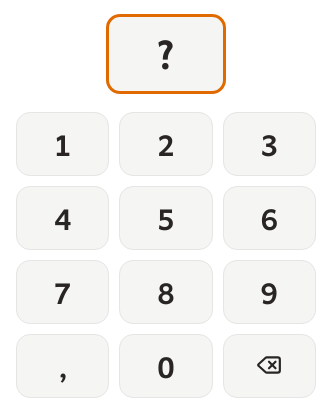
Test: <DecimalInput> : saisie d'un nombre decimal › compose 3,25 et remonte le code 325 (centiemes)
The width and height of the screenshot is (333, 415).
Click the button "3".
click(269, 144)  # box [223,112,316,176]
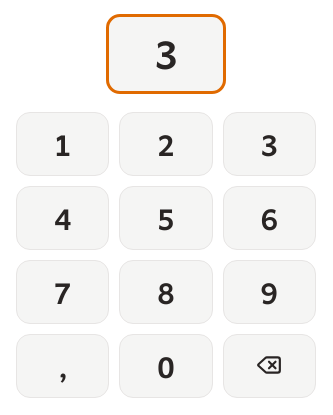
Click the button named "virgule".
click(63, 366)  # box [16,334,109,398]
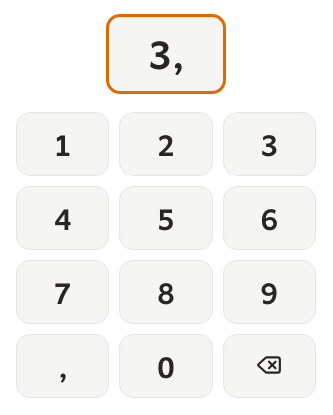
Click the button "2".
click(166, 144)  # box [119,112,213,176]
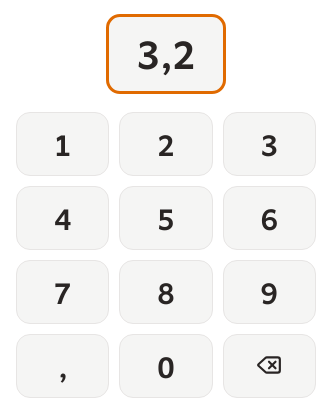
Click the button "5".
click(166, 218)  # box [119,186,213,250]
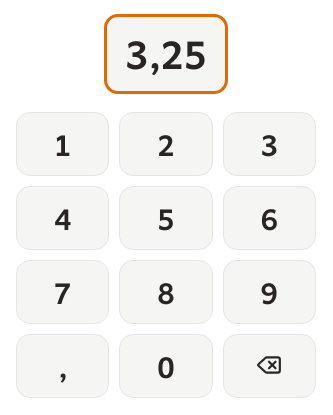
expect the text named "nombre : 3,25" is shown: met, box [104,14,228,94]
